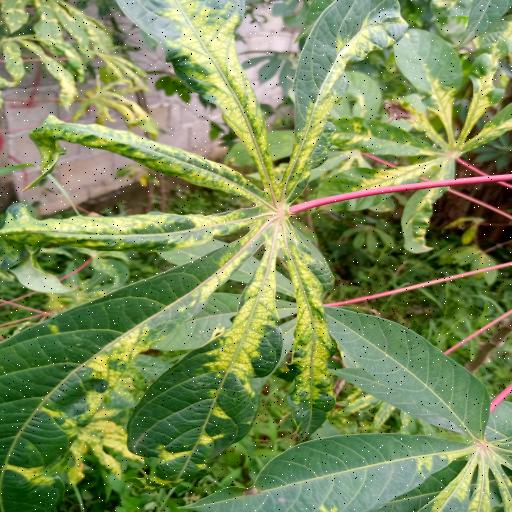Cassava_Mosaic: (0, 0, 409, 512), (183, 297, 512, 512), (310, 34, 512, 254)
